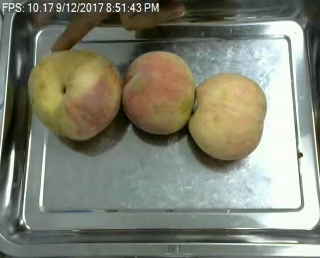Peach: (27, 48, 123, 140), (188, 72, 266, 161), (121, 48, 195, 135)
